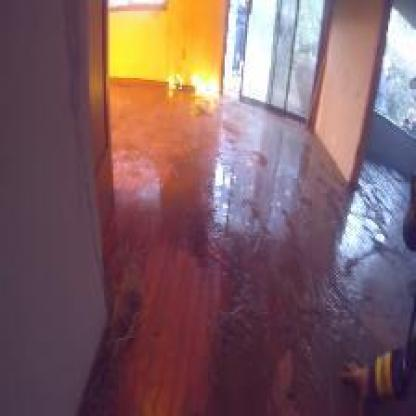other: (161, 66, 228, 101)
